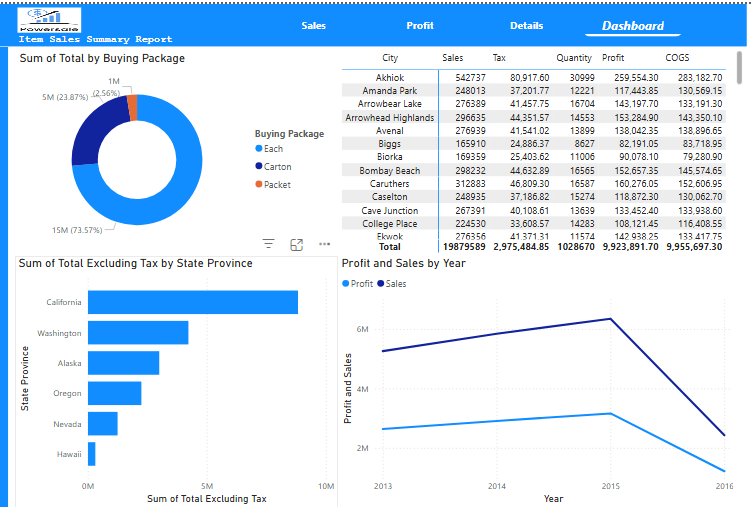

What the dashboard file says about the page in this screenshot:
{"tool":"powerbi","page":{"name":"Dashboard","canvas":[1280,720],"ordinal":3},"visuals":[{"type":"shape","box":[0,0,1066.7,61.1],"z":0},{"type":"shape","box":[0,61.1,12.2,658.9],"z":1000},{"type":"pageNavigator","box":[377.8,13.3,600,34.4],"z":2000},{"type":"textbox","box":[22,36,244.4,32],"z":3000},{"type":"image","box":[20,0,101.1,45.6],"z":4000},{"type":"donutChart","fields":{"Category":["DimStockItem.Buying Package"],"Y":["Sum(FactSale.Total Excluding Tax)"]},"box":[22.2,67.8,461.1,292.2],"z":5000},{"type":"pivotTable","fields":{"Rows":["DimCity.City"],"Values":["Sum(FactSale.Total Excluding Tax)","Sum(FactSale.Tax Amount)","Sum(FactSale.Quantity)","Sum(FactSale.Profit)","FactSale.COGS"]},"box":[483.3,61.1,583.3,298.9],"z":6000},{"type":"barChart","fields":{"Category":["DimCity.State Province"],"Y":["Sum(FactSale.Total Excluding Tax)"]},"box":[22,360,461,360],"z":7000},{"type":"lineChart","title":"Profit and Sales by Year","fields":{"Y":["Sum(FactSale.Profit)","Sum(FactSale.Total Excluding Tax)"],"Category":["DimDate.Date.Variation.Date Hierarchy.Year"]},"box":[483.3,360,570,360],"z":8000}]}

Visuals, with their boxes on the page's 1280x720 design canvas (x1, y1, x2, y2). These are canvas units, not pixel positions in the 752x507 screenshot, which may show the page scaled, cropped or inside an application window:
shape: {"x1": 0, "y1": 0, "x2": 1067, "y2": 61}
shape: {"x1": 0, "y1": 61, "x2": 12, "y2": 720}
pageNavigator: {"x1": 378, "y1": 13, "x2": 978, "y2": 48}
textbox: {"x1": 22, "y1": 36, "x2": 266, "y2": 68}
image: {"x1": 20, "y1": 0, "x2": 121, "y2": 46}
donutChart - DimStockItem.Buying Package x Sum(FactSale.Total Excluding Tax): {"x1": 22, "y1": 68, "x2": 483, "y2": 360}
pivotTable - DimCity.City x Sum(FactSale.Total Excluding Tax): {"x1": 483, "y1": 61, "x2": 1067, "y2": 360}
barChart - DimCity.State Province x Sum(FactSale.Total Excluding Tax): {"x1": 22, "y1": 360, "x2": 483, "y2": 720}
"Profit and Sales by Year" lineChart: {"x1": 483, "y1": 360, "x2": 1053, "y2": 720}
